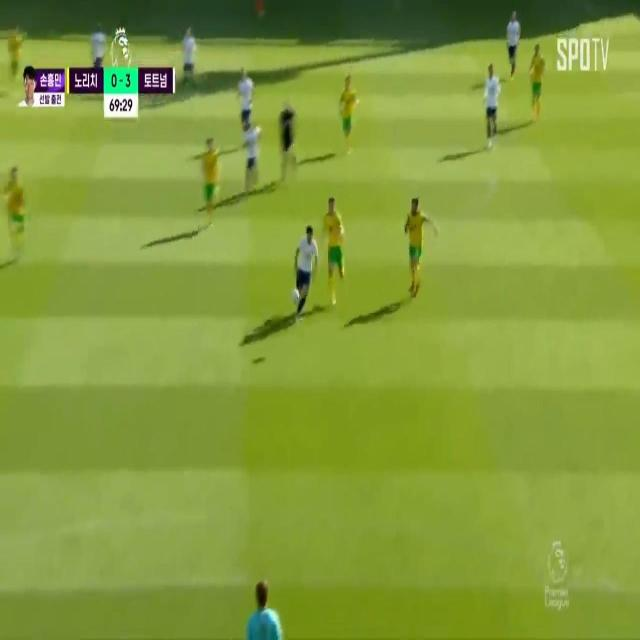ball: (289, 280, 303, 306)
player: (285, 214, 319, 326), (322, 194, 347, 298), (0, 164, 27, 248), (408, 188, 426, 295), (242, 116, 266, 196), (202, 129, 222, 216), (527, 42, 547, 116), (235, 67, 253, 141), (484, 60, 498, 150), (504, 6, 520, 80), (341, 72, 358, 141), (180, 22, 197, 90), (7, 24, 20, 80), (91, 24, 105, 72)
referee: (279, 93, 297, 170)
